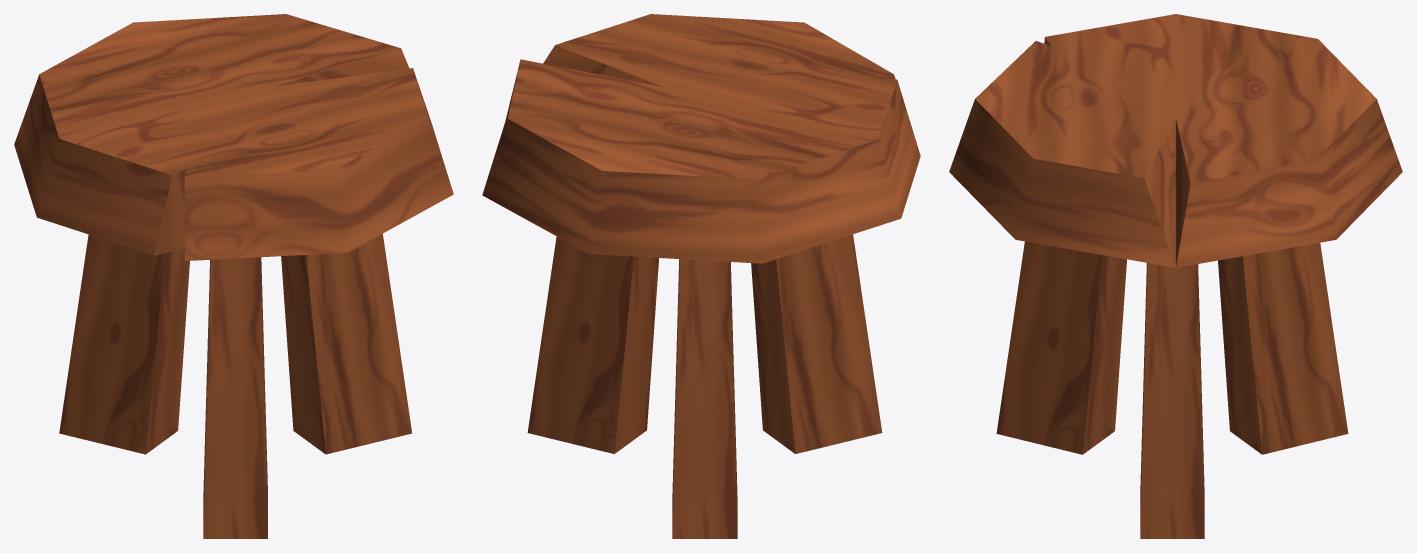
The model's file is SM_Stool_2.fbx.
3 views of the same model, side by side, from view 1: azimuth 30°, elevation 25°; view 2: azimuth 150°, elevation 25°; view 3: azimuth 270°, elevation 25° (orthographic).
Parts seen in each view (by area): view 1: SM_Stool_2; view 2: SM_Stool_2; view 3: SM_Stool_2.
Part boxes in pixels (bbox=[...]): SM_Stool_2: bbox=[14, 14, 453, 538]; SM_Stool_2: bbox=[482, 14, 920, 538]; SM_Stool_2: bbox=[949, 14, 1402, 538].
Size of the model in its own units: 51.93 by 45.72 by 51.93.
